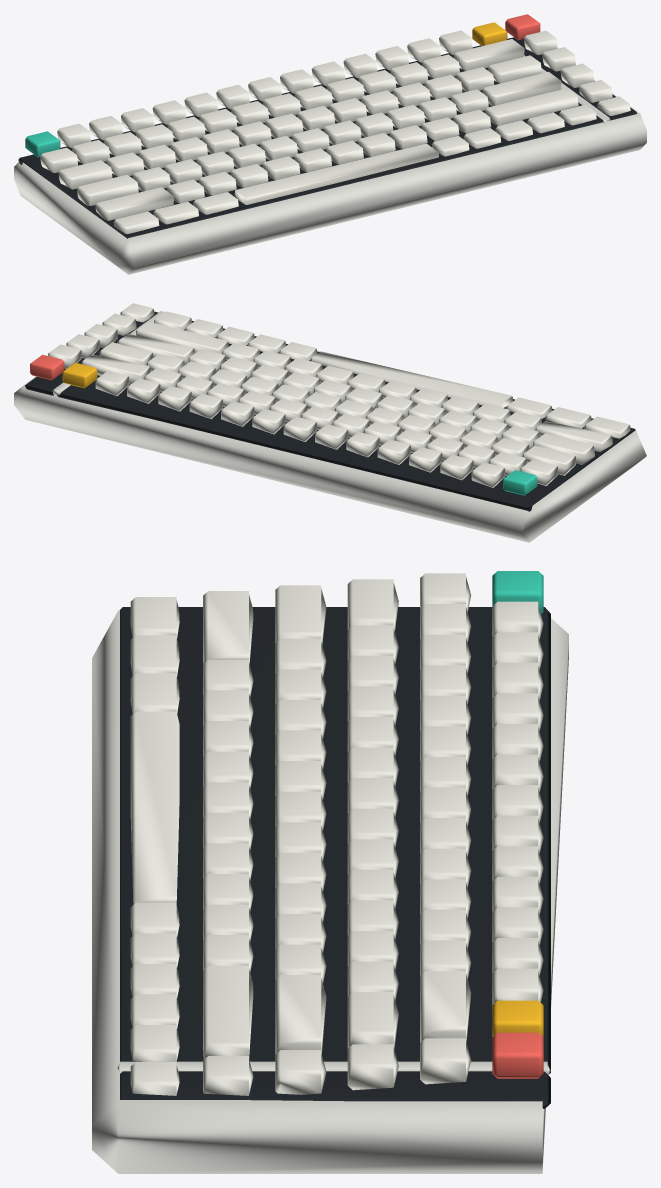
3 views of the same model, one above another, from view 1: azimuth 30°, elevation 25°; view 2: azimuth 150°, elevation 25°; view 3: azimuth 270°, elevation 25° (orthographic). The views are drawn at different scales.
Visible parts, largest first — view 1: Keycap function 01, Keyboard shell, Main recessed deck, Keycap separated coral, Keycap function 00, Keycap separated yellow; view 2: Keycap function 01, Keyboard shell, Main recessed deck, Keycap separated yellow, Keycap function 00, Keycap separated coral; view 3: Keycap function 01, Main recessed deck, Keyboard shell, Keycap separated coral, Keycap separated yellow, Keycap function 00.
Boxes of the visible parts, x1,y1,x2,y2 form: Keycap function 01: (40, 30, 630, 233); Keyboard shell: (14, 55, 646, 274); Main recessed deck: (18, 37, 636, 238); Keycap separated coral: (505, 14, 540, 39); Keycap function 00: (25, 131, 60, 157); Keycap separated yellow: (472, 22, 507, 45); Keycap function 01: (48, 303, 630, 487); Keyboard shell: (14, 311, 646, 542); Main recessed deck: (25, 311, 635, 511); Keycap separated yellow: (62, 362, 97, 388); Keycap function 00: (503, 470, 537, 495); Keycap separated coral: (30, 354, 64, 380); Keycap function 01: (130, 573, 543, 1095); Main recessed deck: (120, 607, 550, 1108); Keyboard shell: (92, 610, 568, 1173); Keycap separated coral: (492, 1032, 543, 1078); Keycap separated yellow: (492, 1000, 543, 1036); Keycap function 00: (492, 571, 543, 614).
Bounding box in the file's own units: 0.37 × 0.0391 × 0.145.
